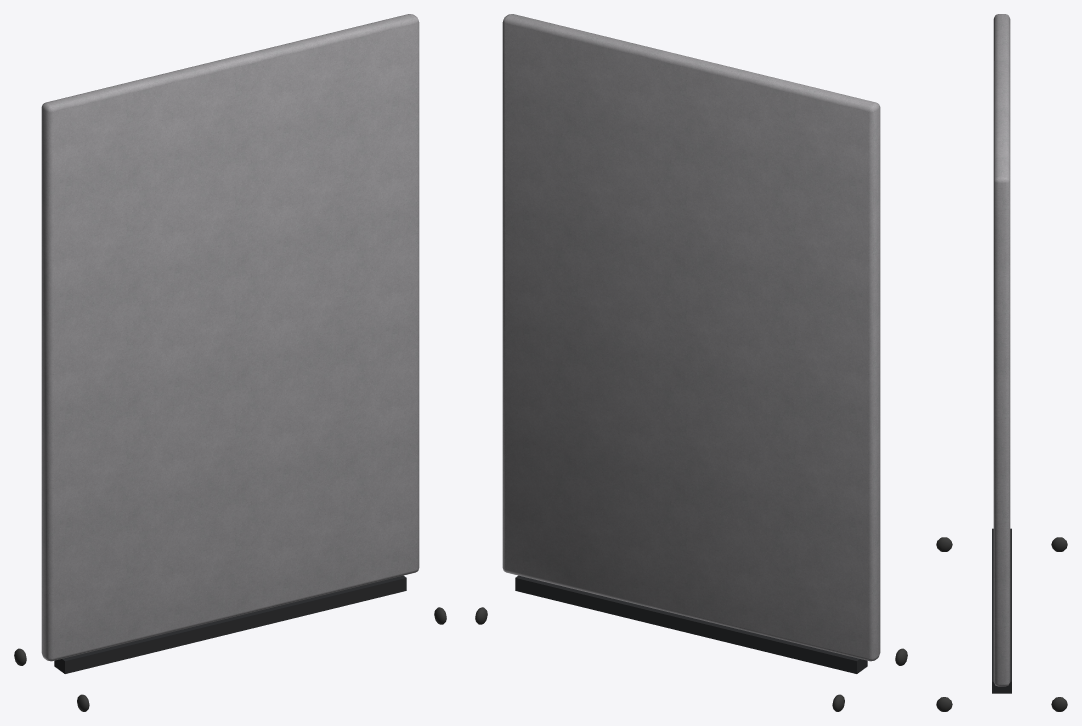
File: partition.mobile-partition-solid.glb
3 renders of one model, left to right at view 1: azimuth 30°, elevation 25°; view 2: azimuth 150°, elevation 25°; view 3: azimuth 270°, elevation 25°, orthographic. The views are drawn at different scales.
Visible parts, largest first — view 1: partition.mobile-partition-solid.001; view 2: partition.mobile-partition-solid.001; view 3: partition.mobile-partition-solid.001.
Part boxes in pixels (x1=…): partition.mobile-partition-solid.001: x1=14, y1=14, x2=446, y2=711; partition.mobile-partition-solid.001: x1=475, y1=14, x2=907, y2=711; partition.mobile-partition-solid.001: x1=936, y1=14, x2=1067, y2=711.
Bounding box in the file's own units: 1.2 × 1.8 × 0.4.
3 materials, 1 textured.
